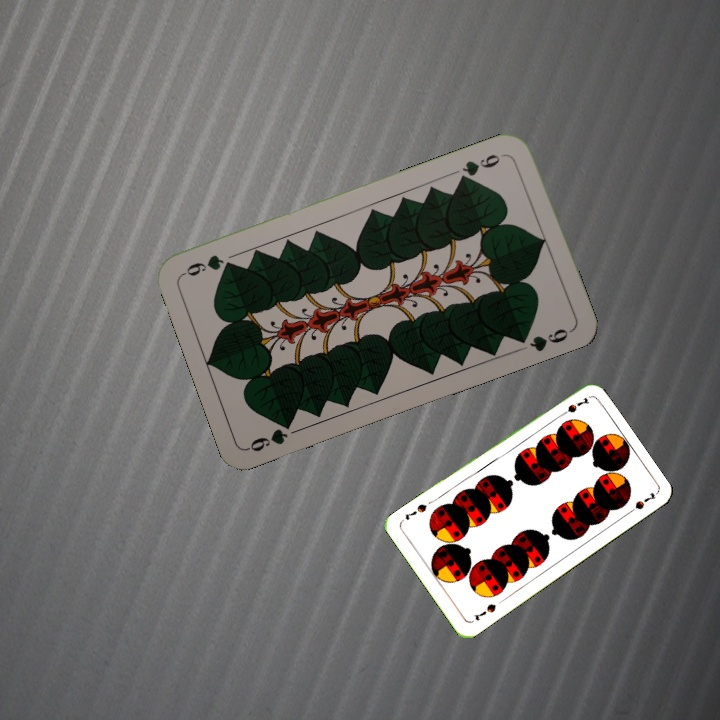G9: (244, 415, 297, 455), (455, 150, 503, 185)
S7: (554, 393, 591, 420), (470, 600, 498, 623)
